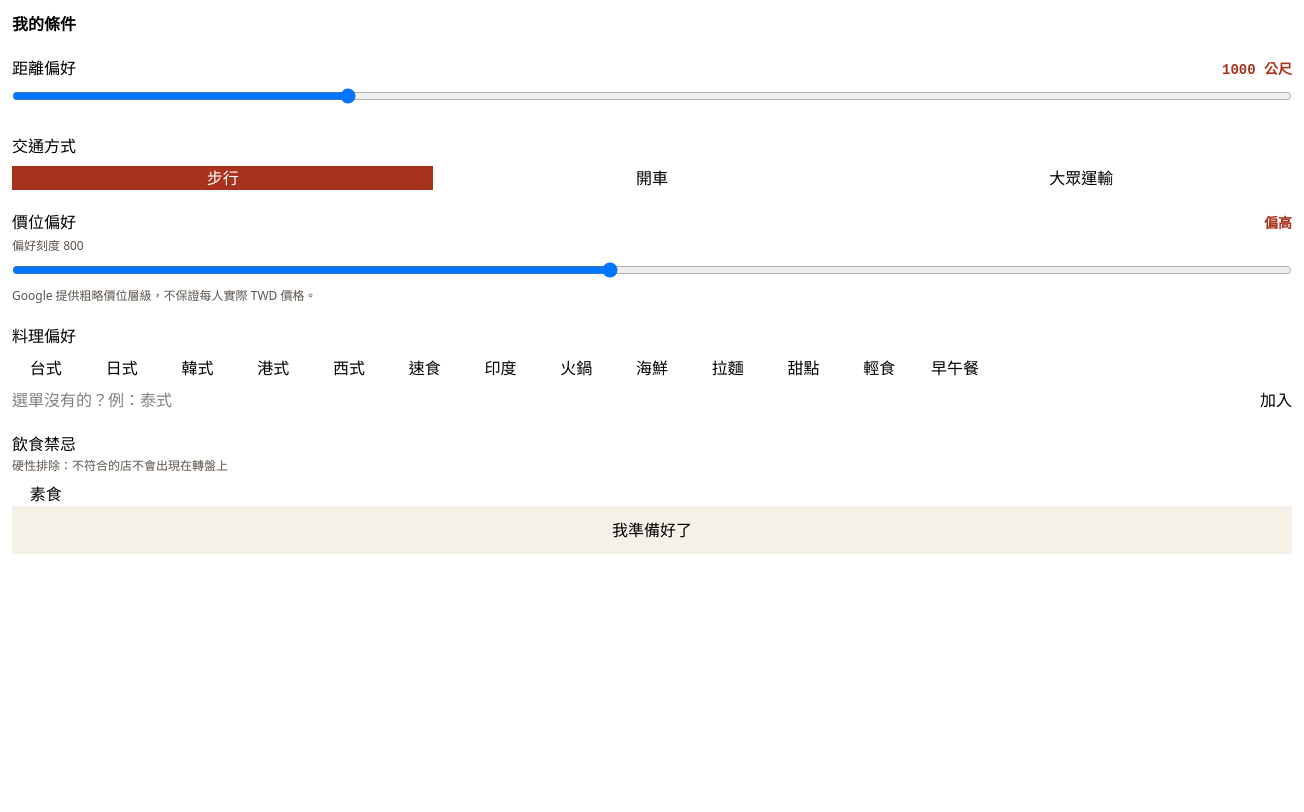
Test: ConditionsForm 條件寫入防線 › 條件寫入依 generation 序列化，舊 success 不會蓋掉較新的 durable snapshot
Set the slider labelled "價位偏好 偏高 偏好刻度 800 Google 提供粗略價位層級，不保證每人實際 TWD 價格。" to "900": (694, 270) [12, 258, 1292, 282]
Wait 401 ms
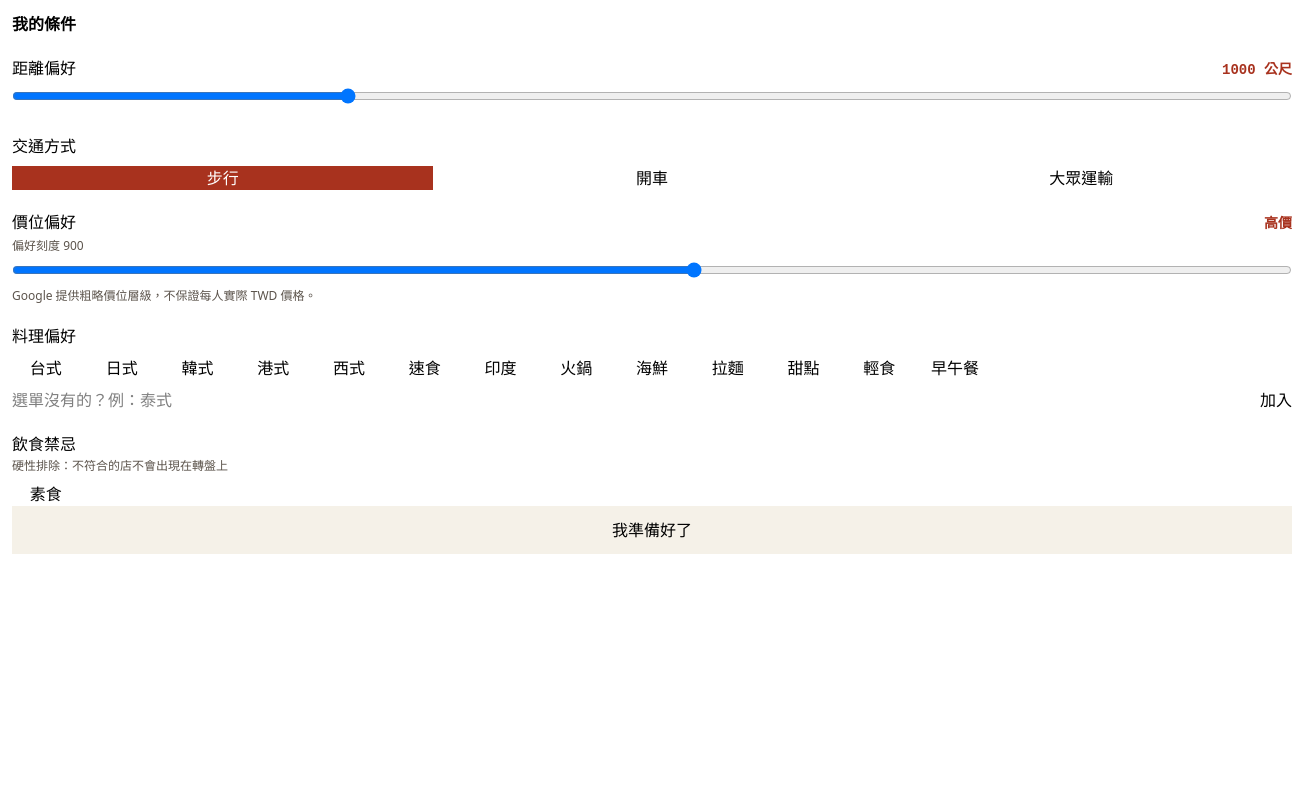
Set the slider labelled "價位偏好 高價 偏好刻度 900 Google 提供粗略價位層級，不保證每人實際 TWD 價格。" to "1000": (778, 270) [12, 258, 1292, 282]
Wait 401 ms
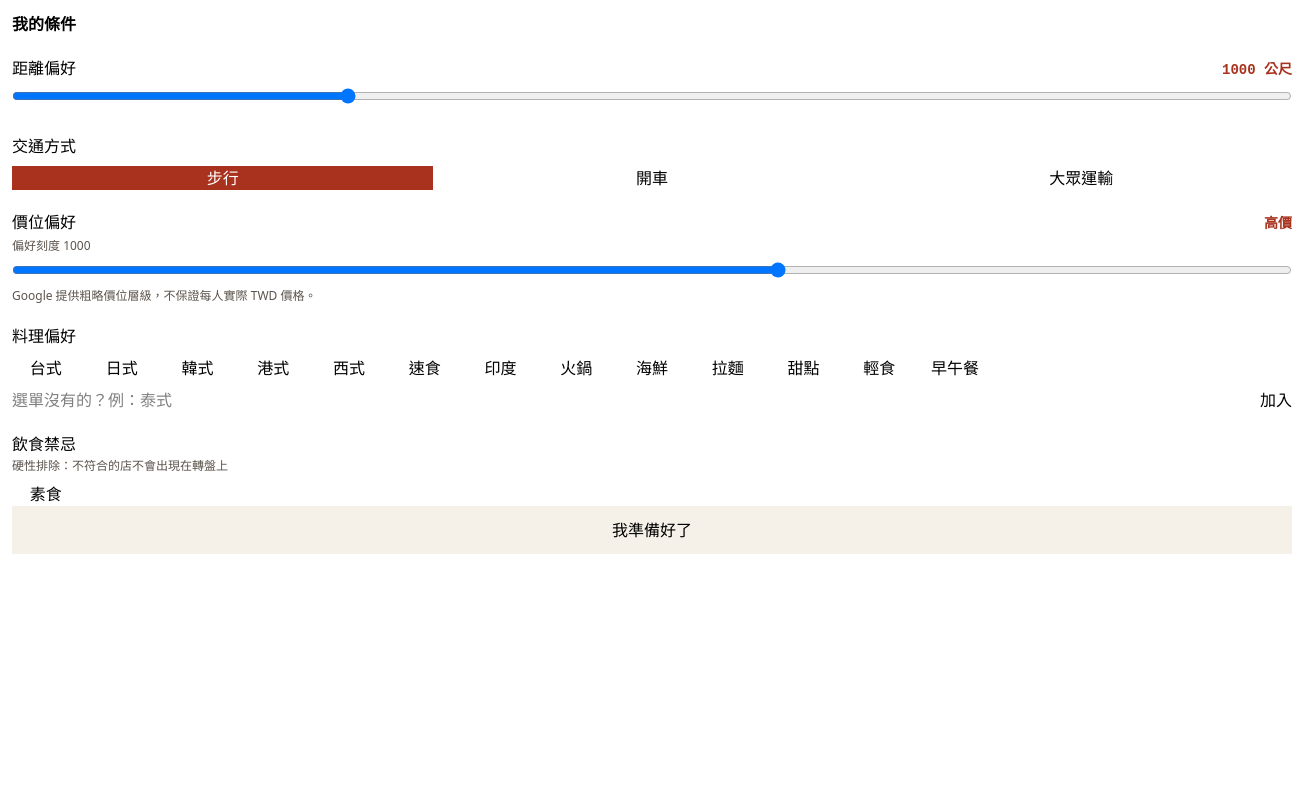
Set the slider labelled "價位偏好 高價 偏好刻度 1000 Google 提供粗略價位層級，不保證每人實際 TWD 價格。" to "1100": (863, 270) [12, 258, 1292, 282]
Wait 401 ms
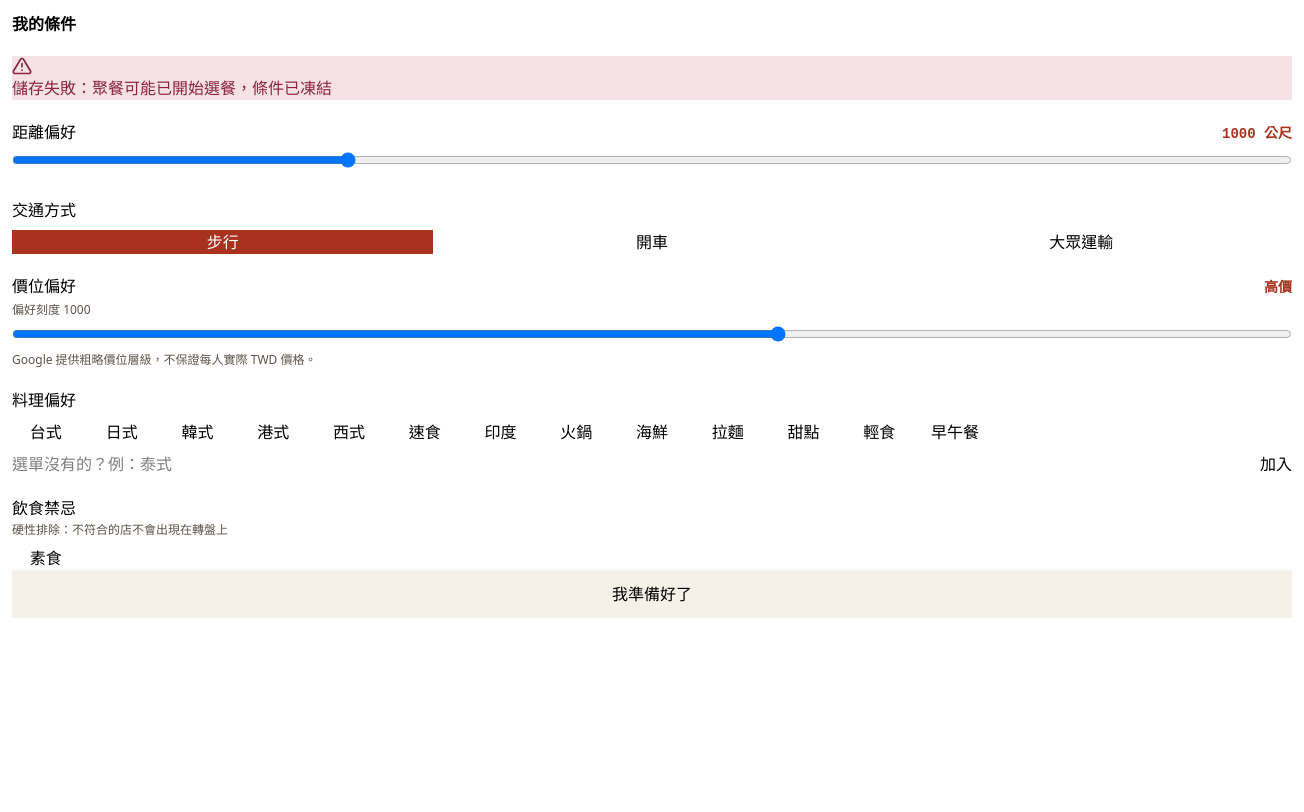
Now the text "儲存失敗：聚餐可能已開始選餐，條件已凍結" is shown, box [12, 77, 332, 99]
